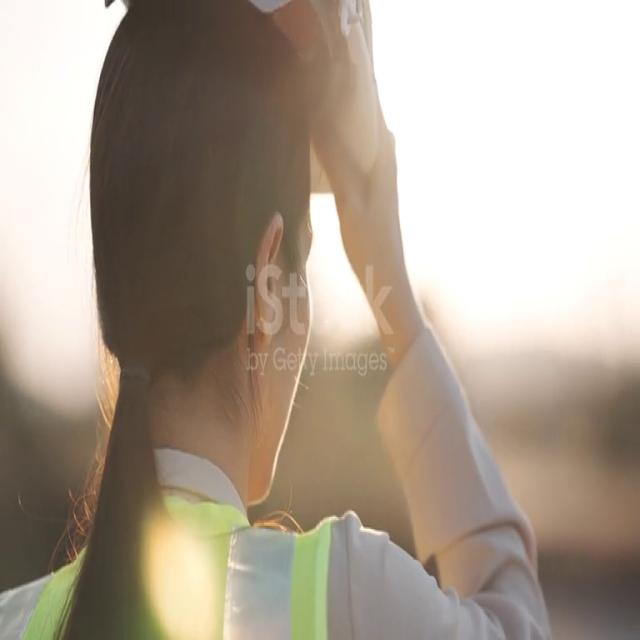capacete: (88, 0, 382, 206)
